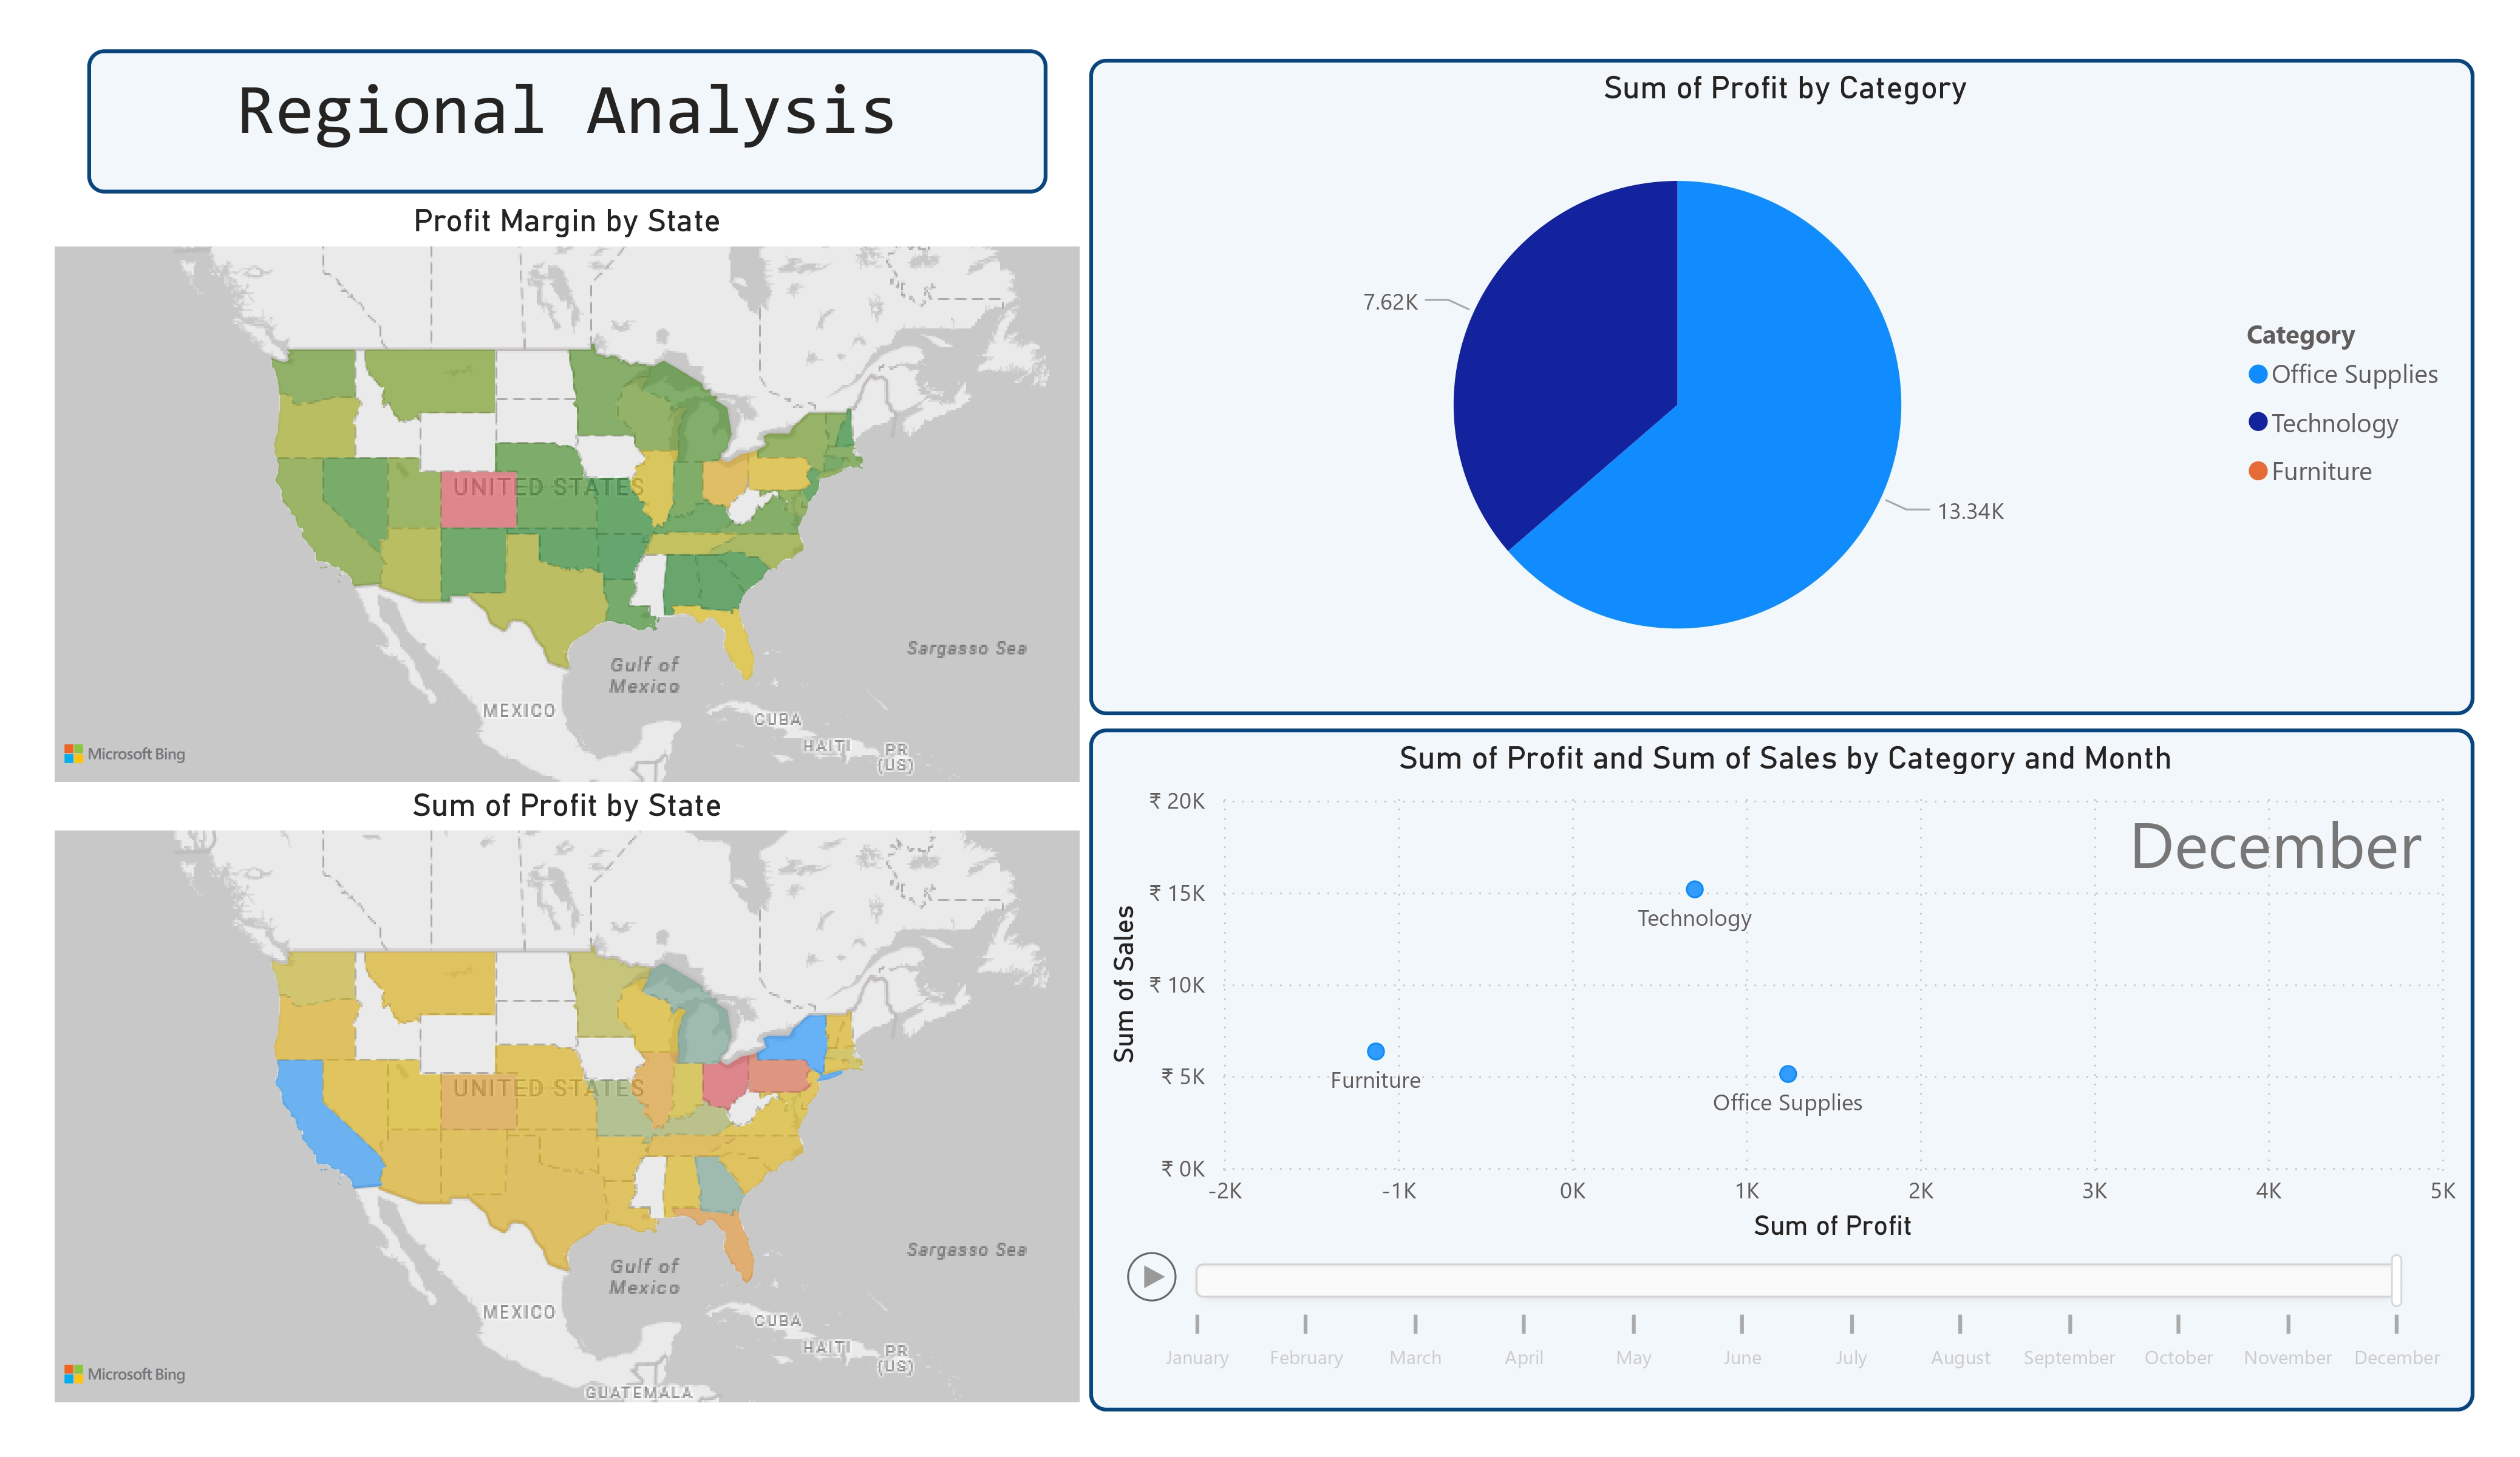

The dashboard page shown, as its layout file describes it:
{"tool":"powerbi","page":{"name":"Regional Analysis","canvas":[1280,720],"ordinal":3},"visuals":[{"type":"filledMap","fields":{"Category":["dataset.State"]},"box":[0,390,550,330],"z":0},{"type":"pieChart","fields":{"Category":["dataset.Category"],"Y":["Sum(dataset.Profit)"]},"box":[550,0,730,360],"z":1000},{"type":"filledMap","fields":{"Category":["dataset.State"]},"box":[0,75,550,311.7],"z":2000},{"type":"scatterChart","fields":{"Category":["dataset.Category"],"X":["Sum(dataset.Profit)"],"Y":["Sum(dataset.Sales)"],"Play":["dataset.Date.Variation.Date Hierarchy.Month"]},"box":[550,360,730,360],"z":3000},{"type":"textbox","box":[0,1.7,500,60],"z":3001}]}

Visuals, with their boxes in screenshot pixels (x1, y1, x2, y2):
filledMap - dataset.State: x1=59, y1=783, x2=1089, y2=1401
pieChart - dataset.Category x Sum(dataset.Profit): x1=1089, y1=52, x2=2456, y2=727
filledMap - dataset.State: x1=59, y1=193, x2=1089, y2=776
scatterChart - dataset.Category x Sum(dataset.Profit): x1=1089, y1=727, x2=2456, y2=1401
textbox: x1=59, y1=56, x2=995, y2=168
